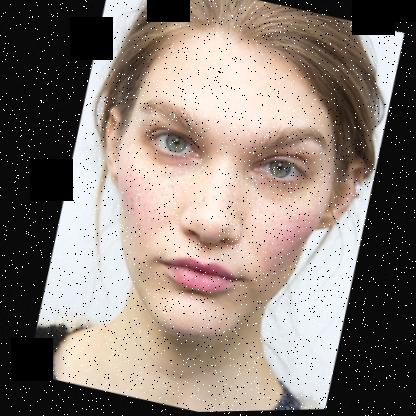Female: (54, 3, 390, 369)
